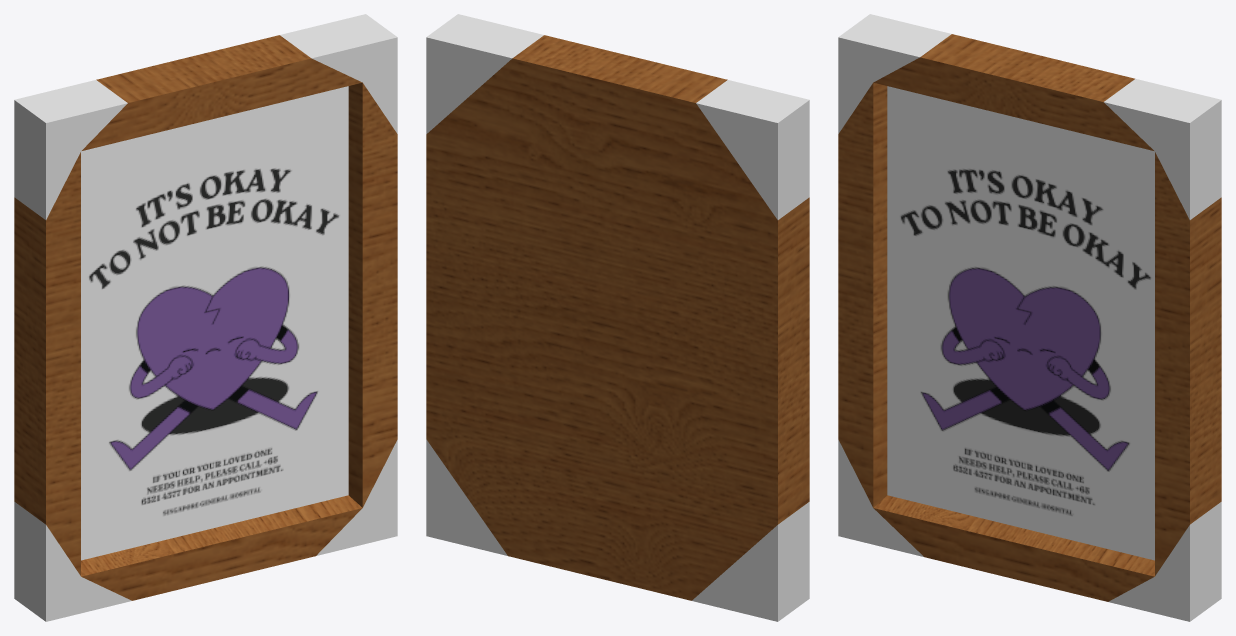
The model's file is PostiveFrame2.fbx.
The picture shows the model from 3 angles, left to right: view 1: azimuth 30°, elevation 25°; view 2: azimuth 150°, elevation 25°; view 3: azimuth 330°, elevation 25°; orthographic projection.
Parts seen in each view (by area): view 1: pCube207; view 2: pCube207; view 3: pCube207.
Boxes of the visible parts, <box> form: pCube207: <box>14,14,397,621</box>; pCube207: <box>426,14,809,621</box>; pCube207: <box>838,14,1221,621</box>.
Bounding box in the file's own units: 0.8624 × 1.17 × 0.1355.
